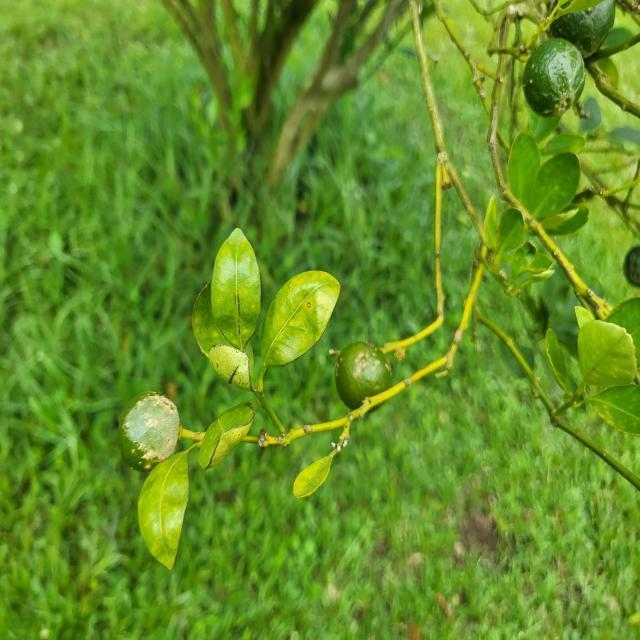thrips: (112, 386, 194, 481), (518, 33, 594, 123)
